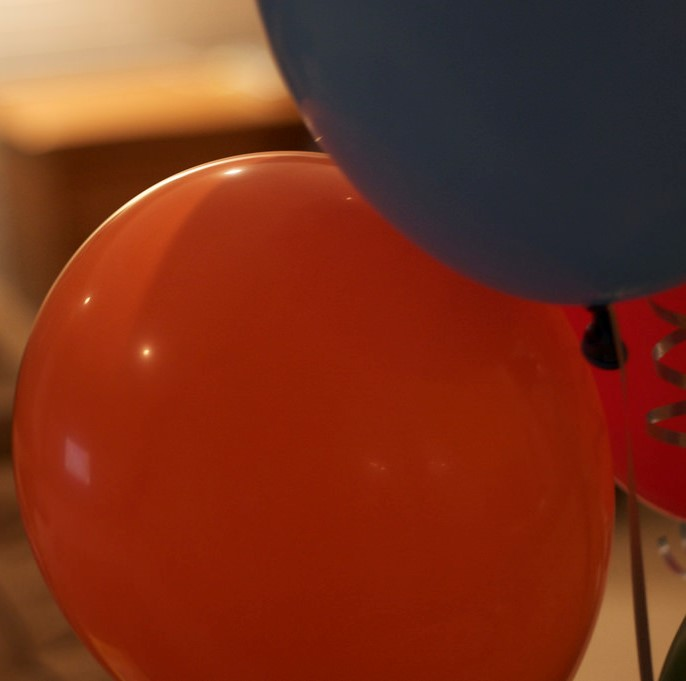Balloon: (12, 149, 618, 681)
